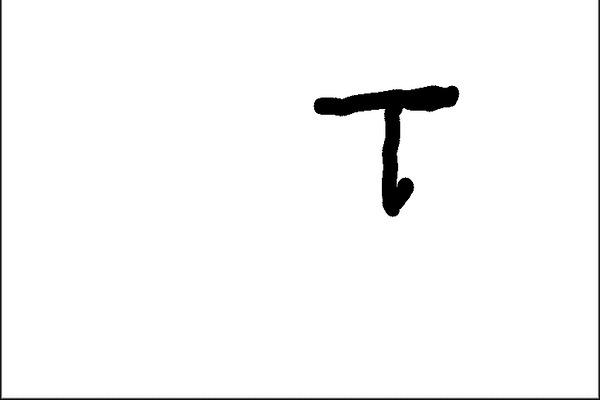T: (302, 75, 462, 228)
